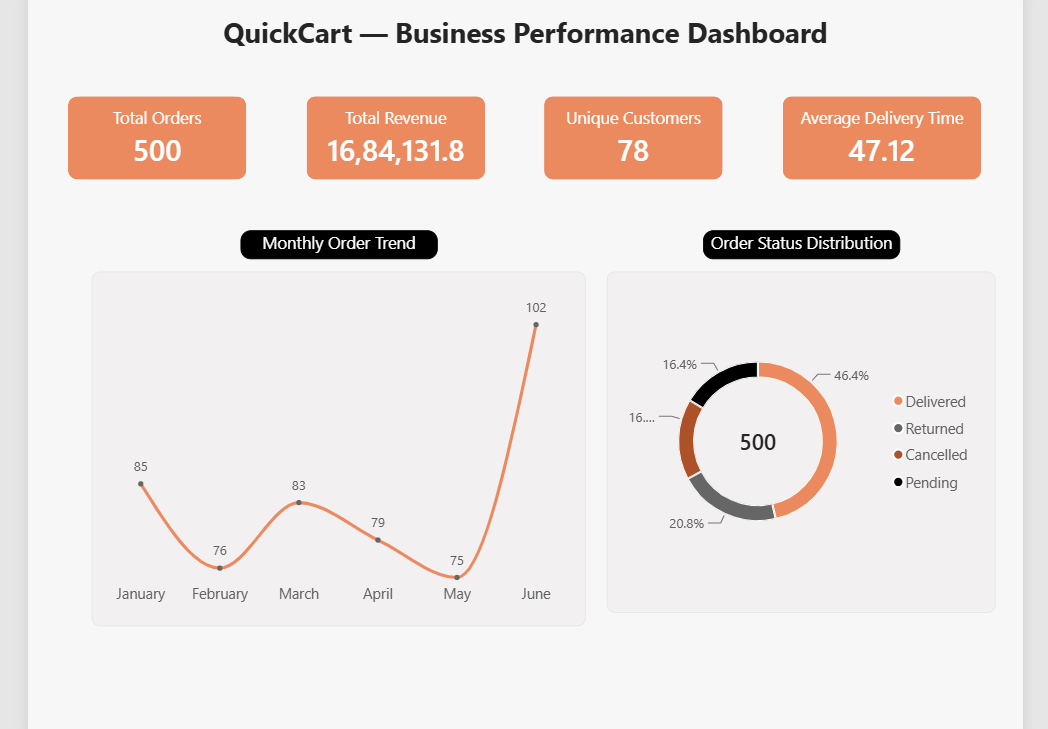

The dashboard page shown, as its layout file describes it:
{"tool":"powerbi","page":{"name":"Business Overview","canvas":[960,720],"ordinal":0},"visuals":[{"type":"cardVisual","fields":{"Data":["Count(public quickcart.order_id)"]},"box":[38.6,98.4,172.5,80.8],"z":0},{"type":"textbox","box":[0,0,960.3,56.7],"z":1},{"type":"cardVisual","fields":{"Data":["public quickcart.Total Revenue"]},"box":[268.6,98.4,172.5,80.8],"z":2},{"type":"cardVisual","fields":{"Data":["public quickcart.Unique Customers"]},"box":[498.7,98.4,172.5,80.8],"z":3},{"type":"cardVisual","fields":{"Data":["public quickcart.Average Delivery Time"]},"box":[728.7,98.4,191.8,80.8],"z":4},{"type":"lineChart","fields":{"Category":["public quickcart.order_date.Variation.Date Hierarchy.Month"],"Y":["CountNonNull(public quickcart.order_id)"]},"box":[61.5,267.8,476.5,342.6],"z":5},{"type":"textbox","box":[205.1,228,190.6,27.7],"z":6},{"type":"donutChart","fields":{"Category":["public quickcart.order_status"],"Y":["CountNonNull(public quickcart.order_id)"]},"box":[558.6,267.8,375.2,329.4],"z":7},{"type":"textbox","box":[651.5,228,190.6,27.7],"z":8}]}

Visuals, with their boxes on the page's 960x720 design canvas (x1, y1, x2, y2). These are canvas units, not pixel positions in the 1048x729 screenshot, which may show the page scaled, cropped or inside an application window:
cardVisual - Count(public quickcart.order_id): box(39, 98, 211, 179)
textbox: box(0, 0, 960, 57)
cardVisual - public quickcart.Total Revenue: box(269, 98, 441, 179)
cardVisual - public quickcart.Unique Customers: box(499, 98, 671, 179)
cardVisual - public quickcart.Average Delivery Time: box(729, 98, 920, 179)
lineChart - public quickcart.order_date.Variation.Date Hierarchy.Month x CountNonNull(public quickcart.order_id): box(62, 268, 538, 610)
textbox: box(205, 228, 396, 256)
donutChart - public quickcart.order_status x CountNonNull(public quickcart.order_id): box(559, 268, 934, 597)
textbox: box(652, 228, 842, 256)
